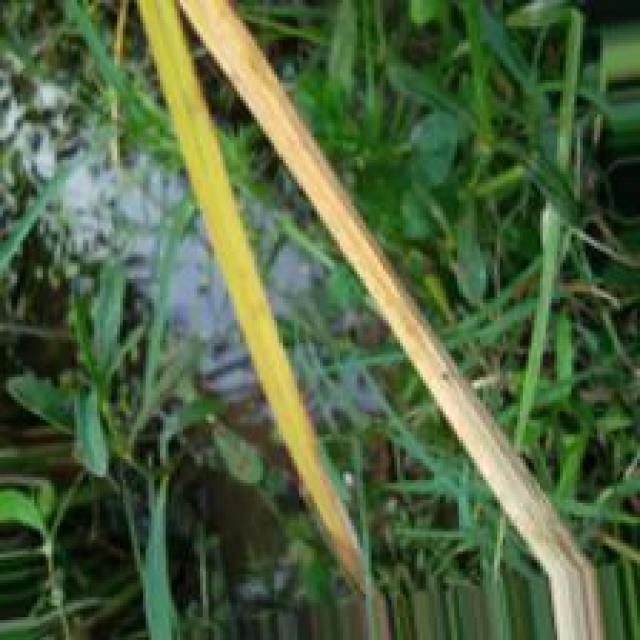Bacterial_Leaf_Blight: (178, 0, 579, 566)
